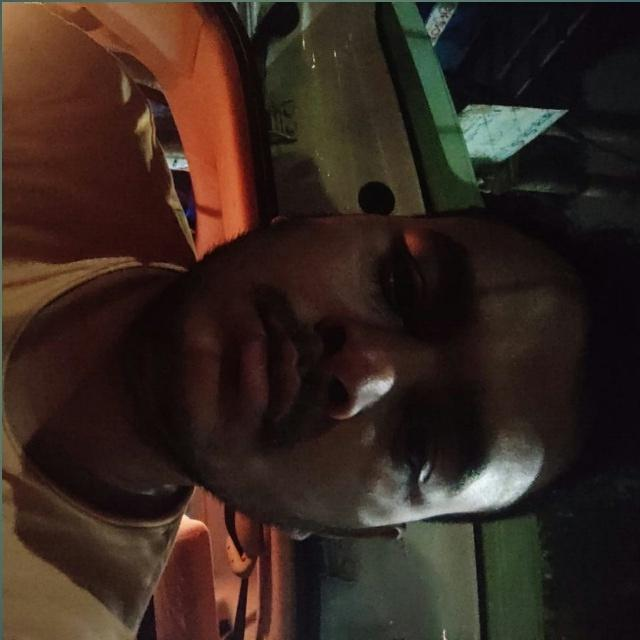Angry: (136, 123, 640, 622)
